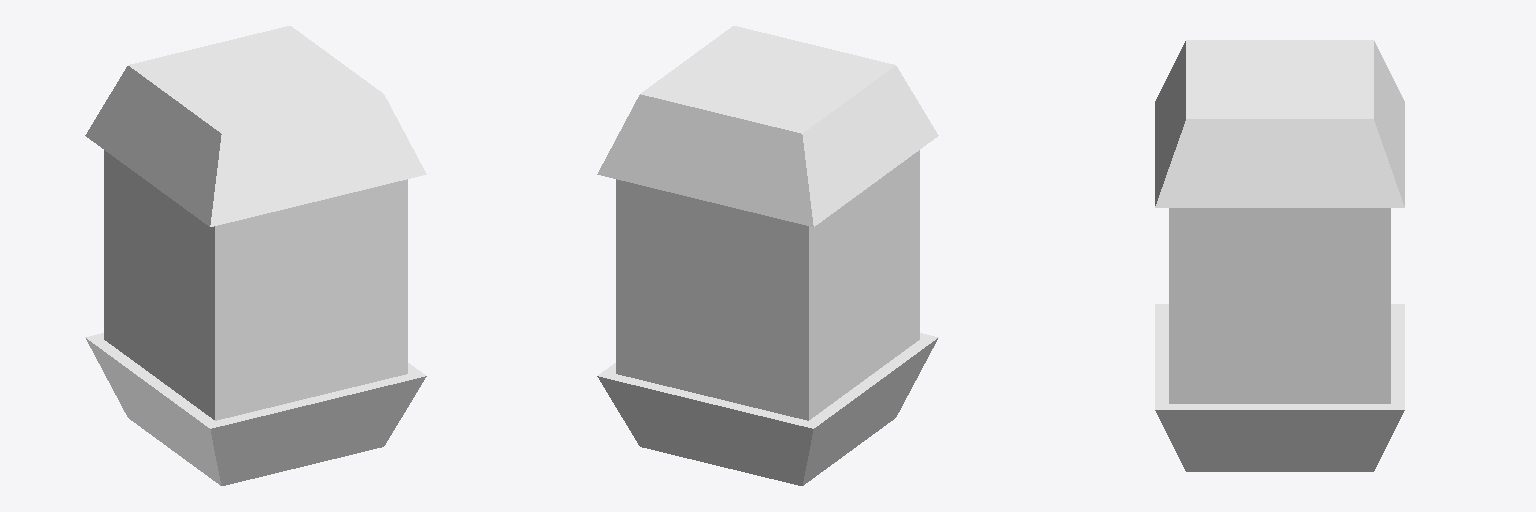
Rendered from aluminium_foil.obj.
The picture shows the model from 3 angles: view 1: azimuth 30°, elevation 25°; view 2: azimuth 150°, elevation 25°; view 3: azimuth 270°, elevation 25°; orthographic projection.
Parts seen in each view (by area): view 1: glass, top_overlay, bottom_overlay; view 2: glass, top_overlay, bottom_overlay; view 3: glass, top_overlay, bottom_overlay.
Part boxes in pixels (left/top/right/bottom): glass: left=104, top=150, right=407, bottom=420; top_overlay: left=85, top=26, right=426, bottom=226; bottom_overlay: left=85, top=333, right=426, bottom=485; glass: left=616, top=150, right=919, bottom=420; top_overlay: left=597, top=26, right=938, bottom=226; bottom_overlay: left=597, top=333, right=938, bottom=485; glass: left=1169, top=208, right=1390, bottom=403; top_overlay: left=1155, top=40, right=1404, bottom=207; bottom_overlay: left=1155, top=304, right=1404, bottom=471.
Size of the model in its own units: 0.5625 by 0.875 by 0.5625.